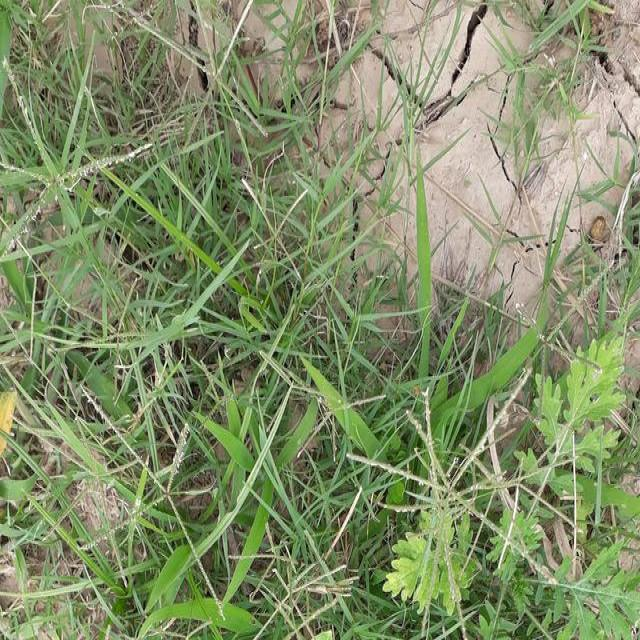weed: (1, 0, 346, 640)
